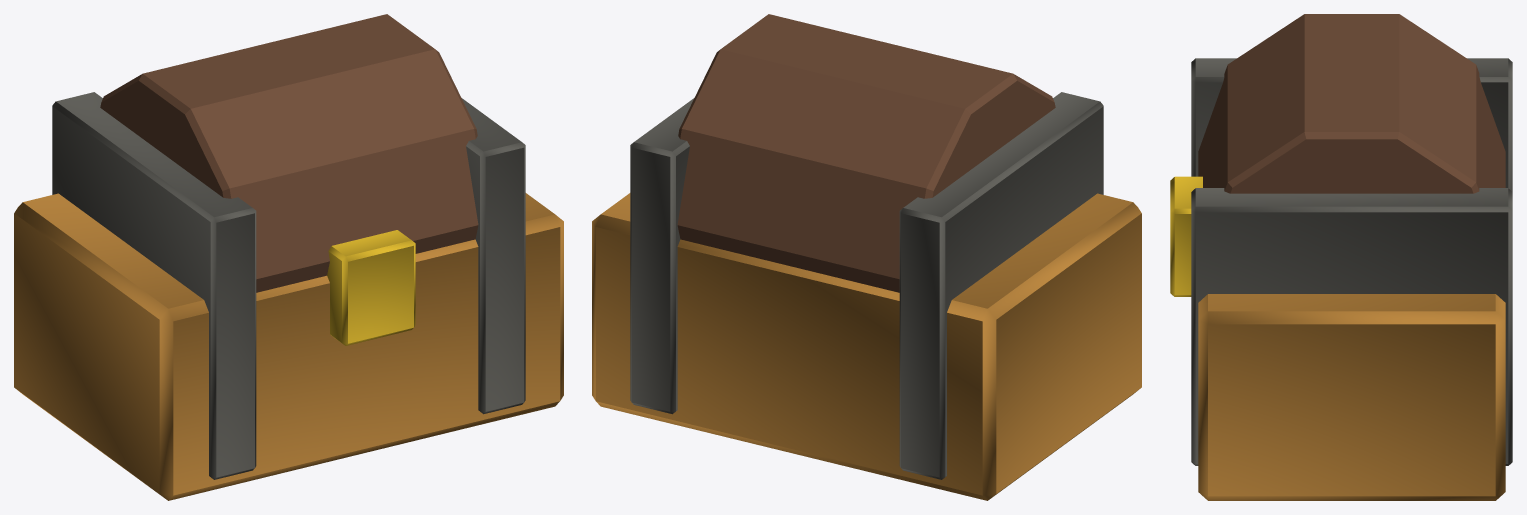
Rendered from prop_chest.glb.
The picture shows the model from 3 angles, left to right: view 1: azimuth 30°, elevation 25°; view 2: azimuth 150°, elevation 25°; view 3: azimuth 270°, elevation 25°; orthographic projection.
Parts seen in each view (by area): view 1: chest_base, chest_lid, chest_band_-0.22, chest_band_0.22, chest_clasp; view 2: chest_base, chest_lid, chest_band_-0.22, chest_band_0.22; view 3: chest_base, chest_lid, chest_band_0.22, chest_band_-0.22, chest_clasp.
Part boxes in pixels (bbox=[...]): chest_base: bbox=[14, 193, 563, 500]; chest_lid: bbox=[100, 14, 478, 292]; chest_band_-0.22: bbox=[52, 92, 256, 479]; chest_band_0.22: bbox=[461, 98, 525, 414]; chest_clasp: bbox=[327, 230, 415, 345]; chest_base: bbox=[592, 193, 1141, 500]; chest_lid: bbox=[677, 14, 1055, 292]; chest_band_-0.22: bbox=[899, 92, 1103, 479]; chest_band_0.22: bbox=[630, 98, 694, 414]; chest_base: bbox=[1198, 294, 1505, 500]; chest_lid: bbox=[1198, 14, 1505, 193]; chest_band_0.22: bbox=[1191, 188, 1512, 465]; chest_band_-0.22: bbox=[1191, 58, 1512, 191]; chest_clasp: bbox=[1170, 176, 1202, 296].
Size of the model in its own units: 0.66 by 0.5292 by 0.49.
